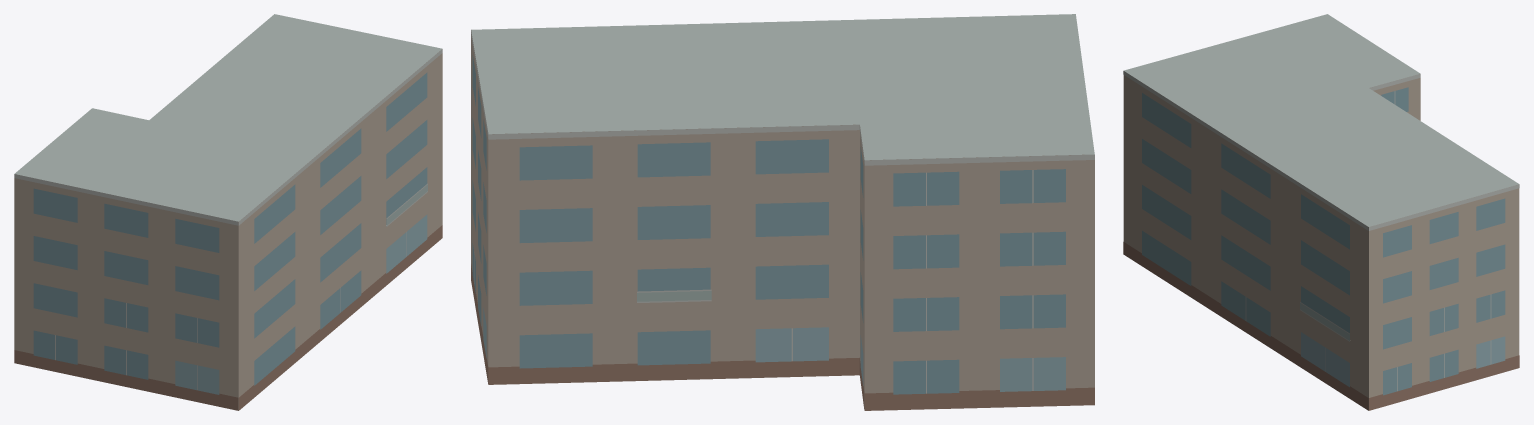
File: survey-upis-32586947.glb
3 views of the same model, side by side, from view 1: azimuth 30°, elevation 25°; view 2: azimuth 150°, elevation 25°; view 3: azimuth 270°, elevation 25° (orthographic). The views are drawn at different scales.
Visible parts, largest first — view 1: survey-upis-32586947.tmp; view 2: survey-upis-32586947.tmp; view 3: survey-upis-32586947.tmp.
Part boxes in pixels (x1,y1,x2,y2): survey-upis-32586947.tmp: (14, 14, 442, 410); survey-upis-32586947.tmp: (471, 14, 1094, 410); survey-upis-32586947.tmp: (1123, 14, 1519, 410).
Size of the model in its own units: 27.86 by 11.2 by 21.88.
